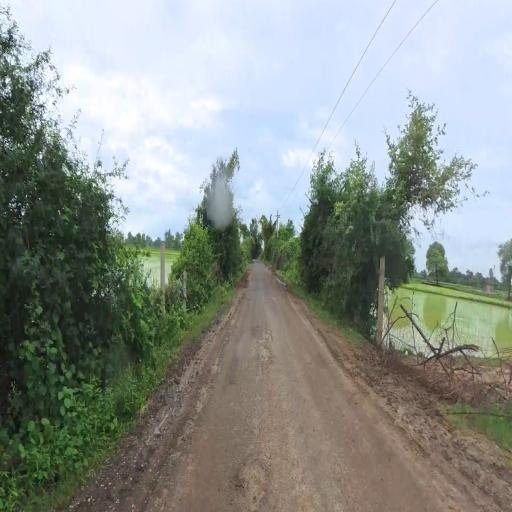ravelling: (207, 421, 296, 512), (233, 301, 289, 390)
